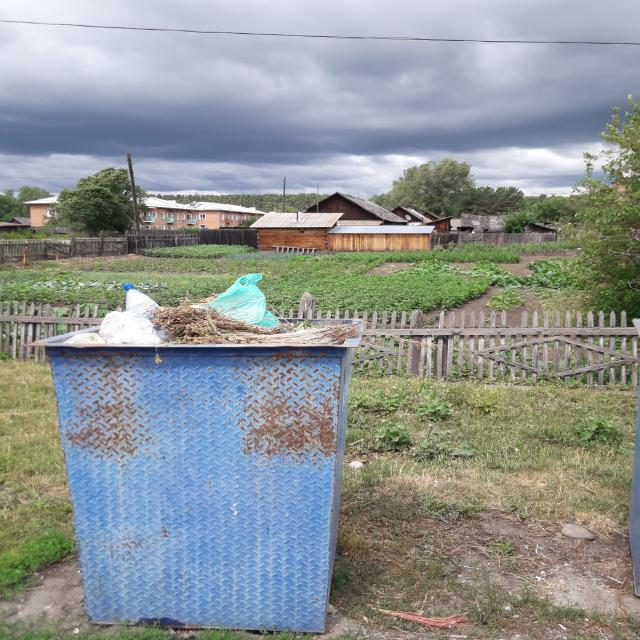bin: (39, 343, 355, 631)
plastic: (33, 270, 360, 342)
